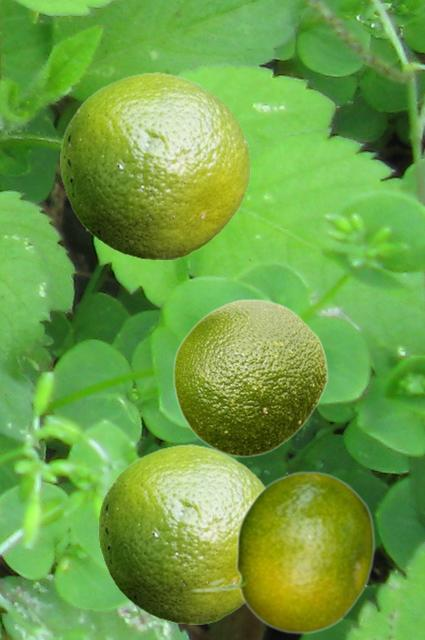calamansi: (60, 72, 249, 259), (189, 470, 374, 633), (98, 444, 265, 623), (172, 298, 327, 457)
